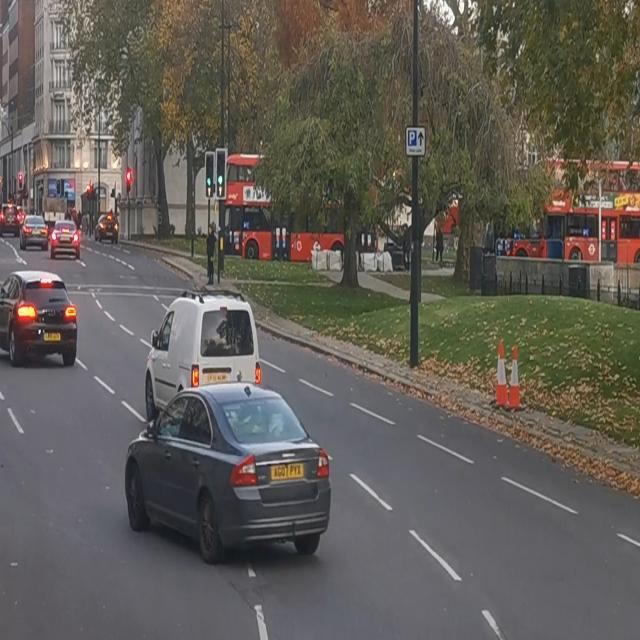Car: (128, 392, 330, 567), (144, 289, 264, 409), (1, 270, 80, 370), (50, 218, 84, 262), (19, 210, 49, 250)
